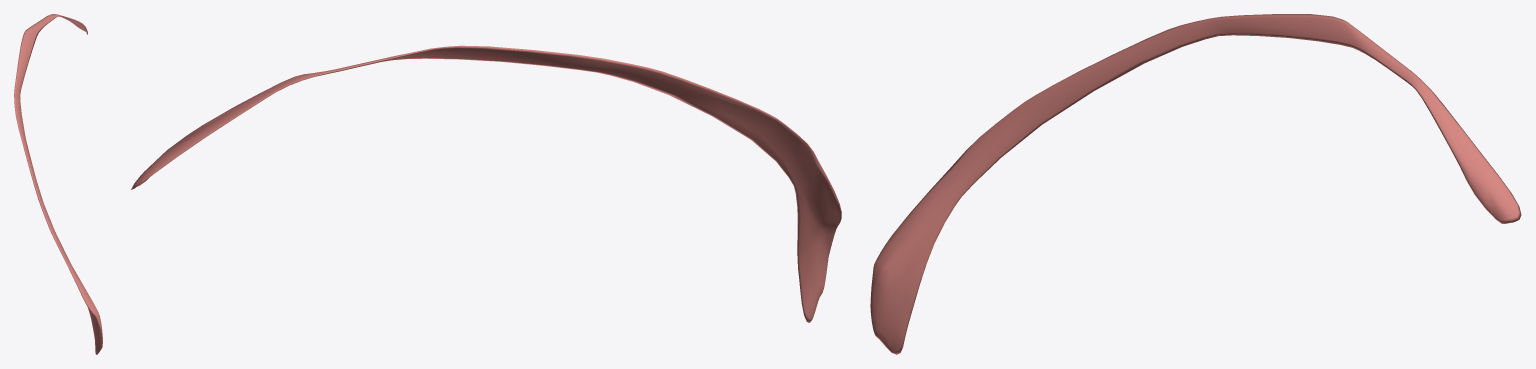
3 views of the same model, side by side, from view 1: azimuth 30°, elevation 25°; view 2: azimuth 150°, elevation 25°; view 3: azimuth 270°, elevation 25° (orthographic). The views are drawn at different scales.
Parts seen in each view (by area): view 1: ZA_82028828c41ae118; view 2: ZA_82028828c41ae118; view 3: ZA_82028828c41ae118.
Boxes of the visible parts, left/top/right/bottom form: ZA_82028828c41ae118: left=14, top=14, right=102, bottom=354; ZA_82028828c41ae118: left=131, top=45, right=841, bottom=322; ZA_82028828c41ae118: left=870, top=14, right=1521, bottom=354.
Size of the model in its own units: 0.0661 by 0.0736 by 0.1133.
